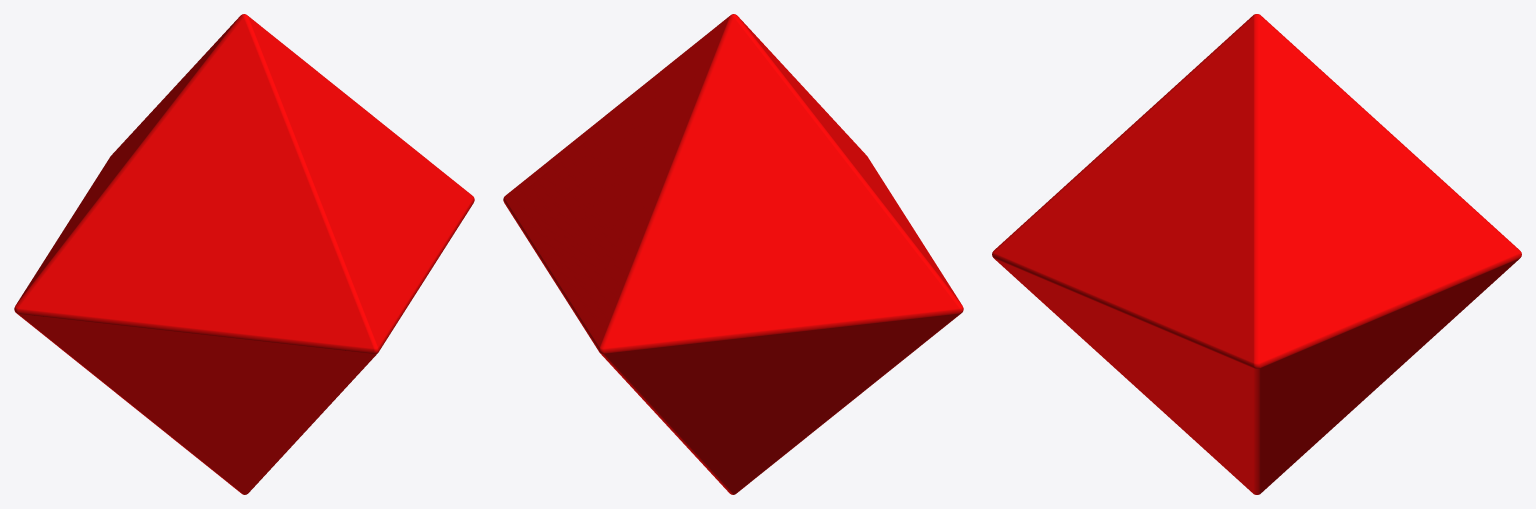
Rendered from pergunta3.glb.
3 renders of one model, left to right at view 1: azimuth 30°, elevation 25°; view 2: azimuth 150°, elevation 25°; view 3: azimuth 270°, elevation 25°, orthographic.
Parts seen in each view (by area): view 1: node_id48; view 2: node_id48; view 3: node_id48.
Part boxes in pixels (x1,y1,x2,y2): node_id48: (14, 14, 474, 494); node_id48: (503, 14, 963, 494); node_id48: (992, 14, 1521, 494).
Size of the model in its own units: 0.4518 by 0.4518 by 0.4518.
1 material, 1 textured.
